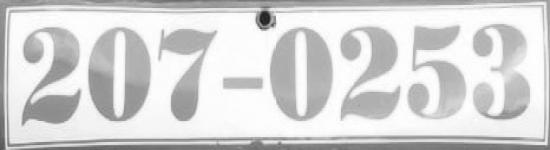-: (221, 69, 266, 101)
0: (84, 22, 154, 131), (266, 25, 336, 128)
2: (336, 25, 404, 129)
3: (470, 13, 540, 132)
4: (14, 21, 87, 134)
5: (407, 21, 471, 129)
7: (150, 18, 222, 130)
